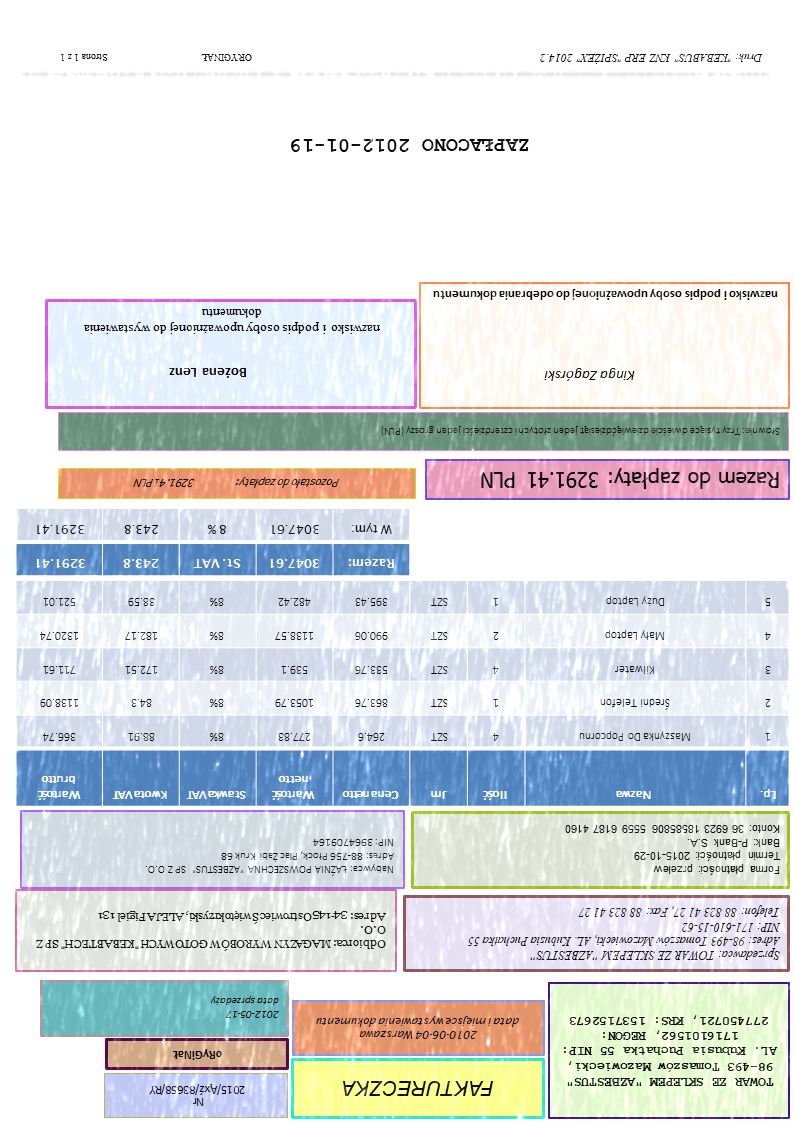Table: (15, 580, 790, 808), (16, 508, 411, 578)
TextBox: (467, 906, 782, 965), (562, 1015, 780, 1089), (35, 908, 389, 952), (562, 822, 782, 877), (143, 835, 398, 878), (83, 306, 381, 337), (479, 469, 781, 493), (379, 423, 781, 439), (434, 287, 781, 305), (313, 1015, 522, 1042), (289, 136, 531, 156), (537, 50, 765, 67), (131, 474, 342, 492), (340, 1078, 496, 1101), (59, 50, 254, 65), (147, 1083, 247, 1110), (210, 995, 281, 1022), (543, 366, 638, 386), (166, 364, 249, 381), (171, 1048, 224, 1063)
